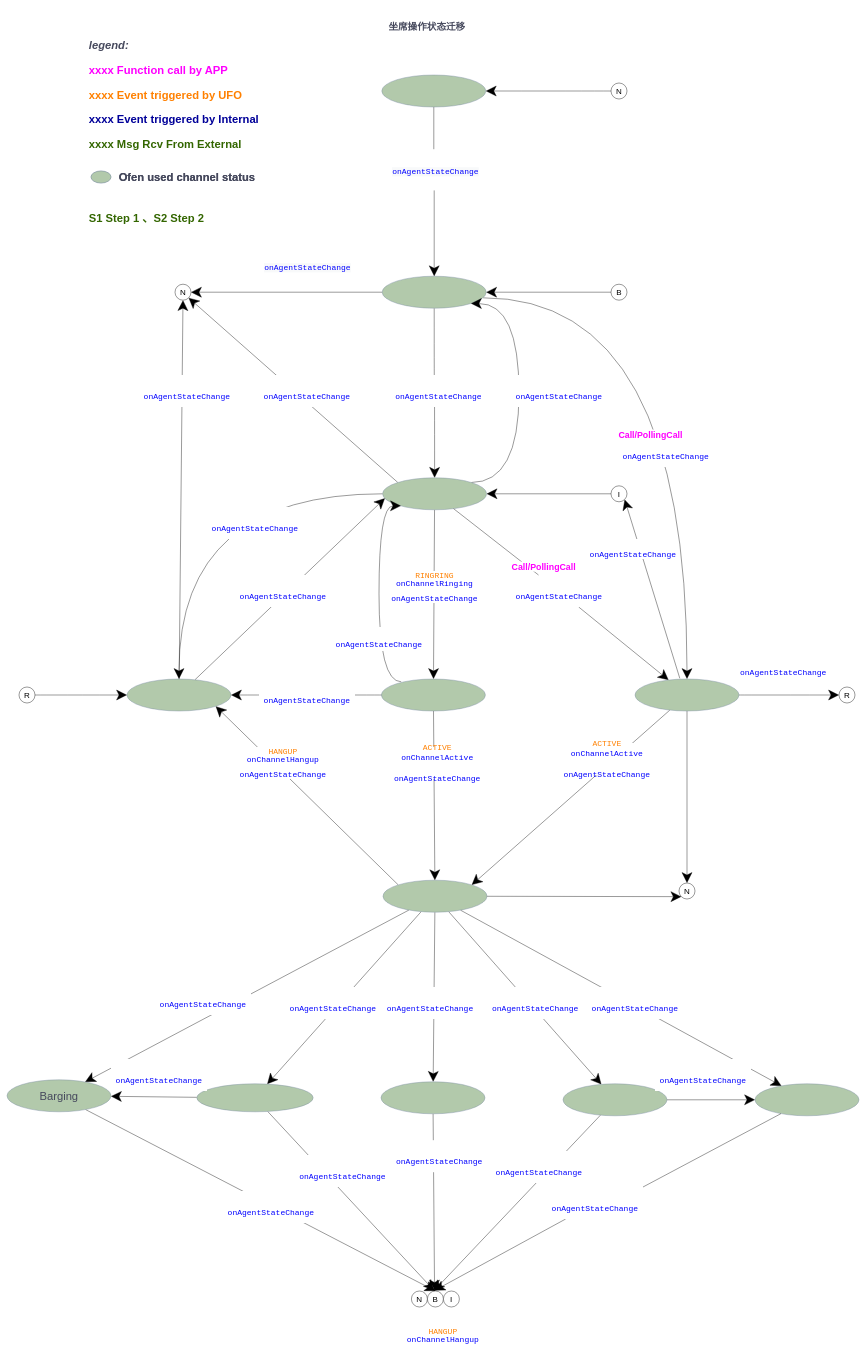
Some shapes in this 866 by 1358 pixel diagram are drawn without their labels. The shapes that lost their labels are listed below. From the top down, each one's box as (x1, y1, x2, y2) in pixels, then its label:
(381, 75, 486, 107): None
(382, 276, 486, 308): Busy
(382, 477, 487, 510): Idle
(127, 679, 231, 711): Rest
(381, 679, 485, 711): Incoming
(635, 679, 739, 711): Calling
(383, 880, 487, 912): Talking
(196, 1083, 313, 1112): Monitoring
(381, 1081, 485, 1114): Whispering
(563, 1083, 667, 1116): Consulting
(755, 1083, 859, 1116): MultiTalking
